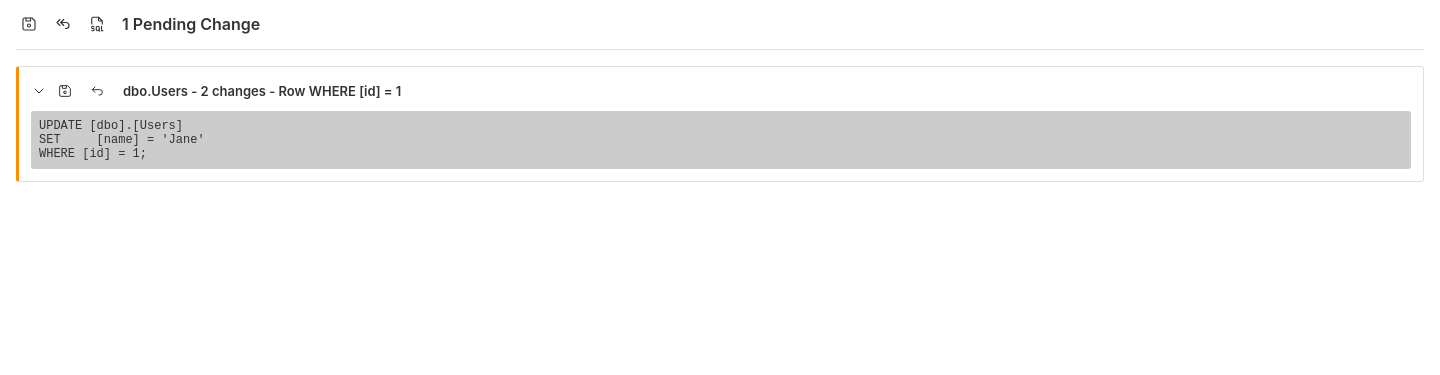
Test: PendingChangesTab › expands details when expand button clicked for multi-change rows
Expected: the text "Old:" is not shown
# Click expand
Click the button with test id "expand-0".
click(39, 91)  # box [31,83,47,99]
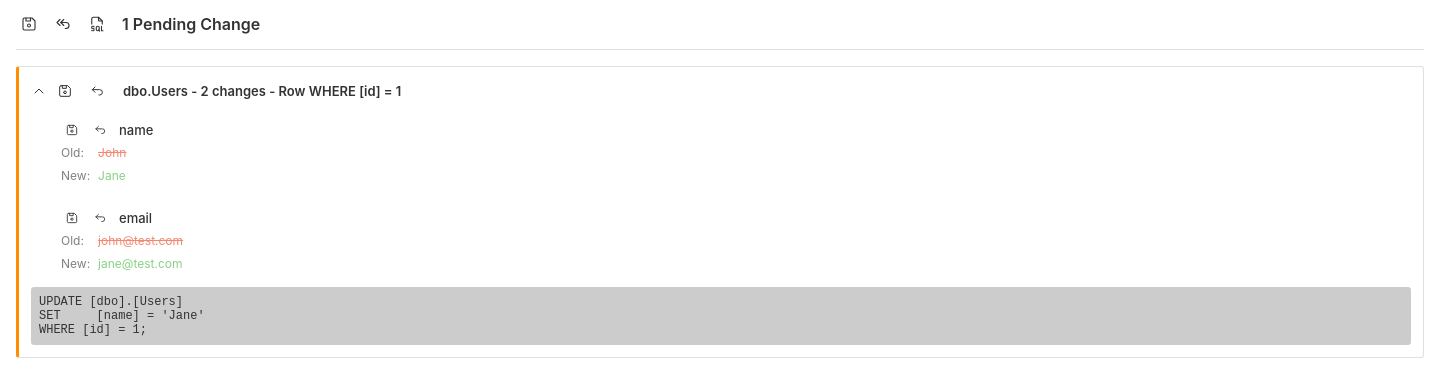
Result: the 1st text "Old:" is shown at [61,145,84,160]
Result: the 1st text "New:" is shown at [61,168,90,183]
